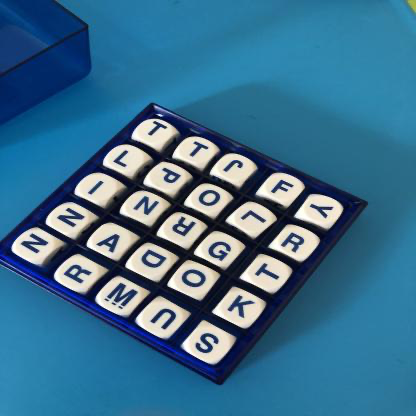a: (90, 227, 131, 258)
d: (132, 247, 172, 278)
f: (265, 174, 303, 203)
g: (203, 235, 239, 266)
i: (79, 175, 119, 203)
j: (216, 155, 255, 181)
k: (221, 291, 264, 325)
l: (234, 205, 274, 235), (107, 144, 146, 174)
m: (101, 283, 144, 316)
n: (15, 229, 58, 262), (48, 205, 91, 234), (126, 193, 167, 221)
o: (176, 265, 214, 298), (190, 187, 231, 214)
p: (150, 164, 189, 191)
r: (276, 227, 321, 259), (59, 259, 101, 293), (165, 216, 204, 247)
s: (188, 327, 231, 362)
t: (248, 258, 289, 291), (179, 138, 217, 166), (139, 119, 174, 146)
u: (141, 303, 184, 339)
y: (303, 197, 344, 225)
